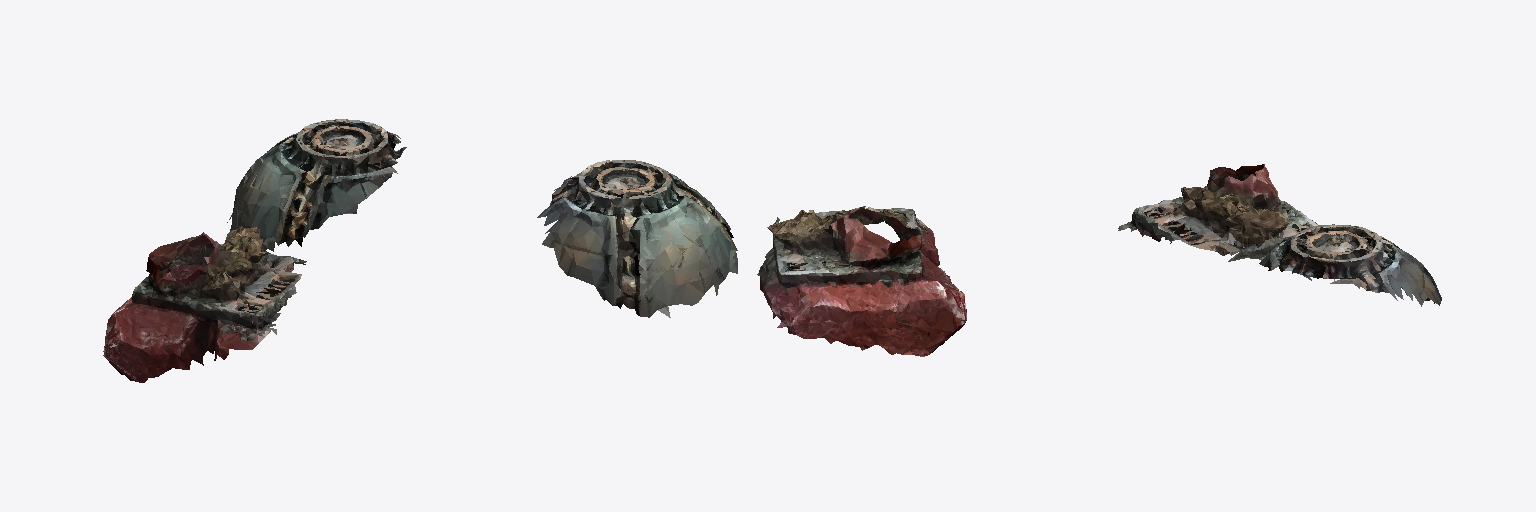
The picture shows the model from 3 angles: view 1: azimuth 30°, elevation 25°; view 2: azimuth 150°, elevation 25°; view 3: azimuth 270°, elevation 25°; orthographic projection.
Parts seen in each view (by area): view 1: DomeLo1.1; view 2: DomeLo1.1; view 3: DomeLo1.1.
Part boxes in pixels (left/top/right/bottom): DomeLo1.1: left=103, top=119, right=406, bottom=382; DomeLo1.1: left=537, top=160, right=966, bottom=356; DomeLo1.1: left=1118, top=164, right=1441, bottom=306.
Size of the model in its own units: 3619 by 1423 by 2921.
1 materials, 1 textured.